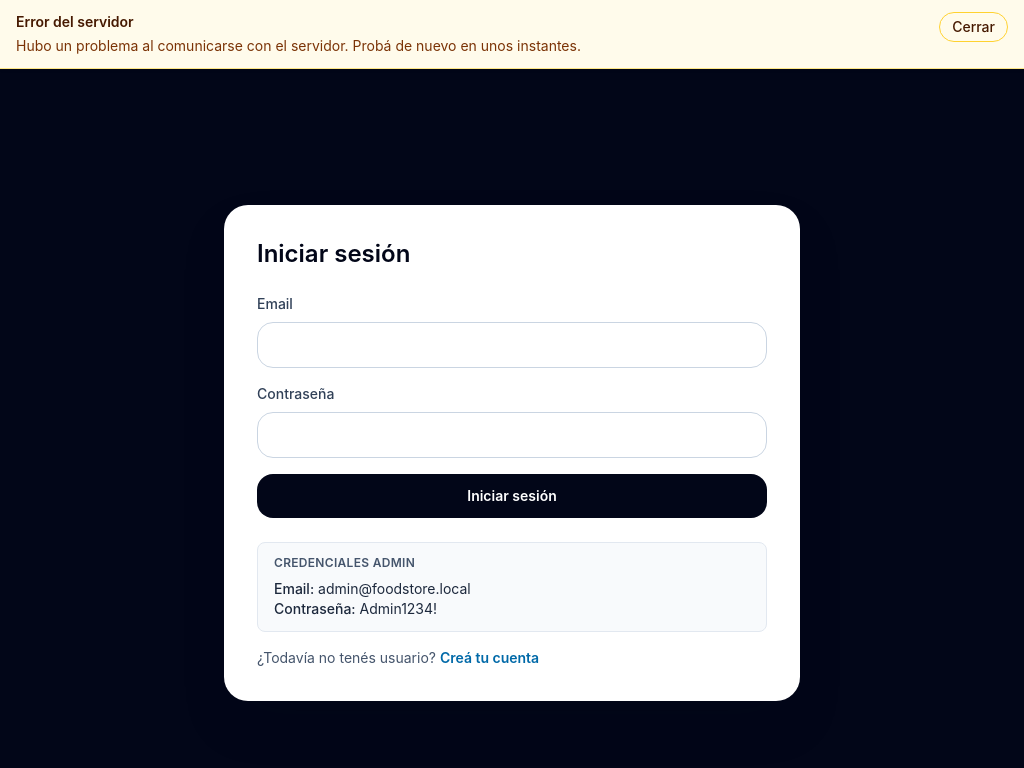
Auth flows › shows login failures without storing a partial session or leaking sensitive metadata
In the field labelled "Email": [512, 345] box [257, 322, 767, 368], type "grace@example.com"
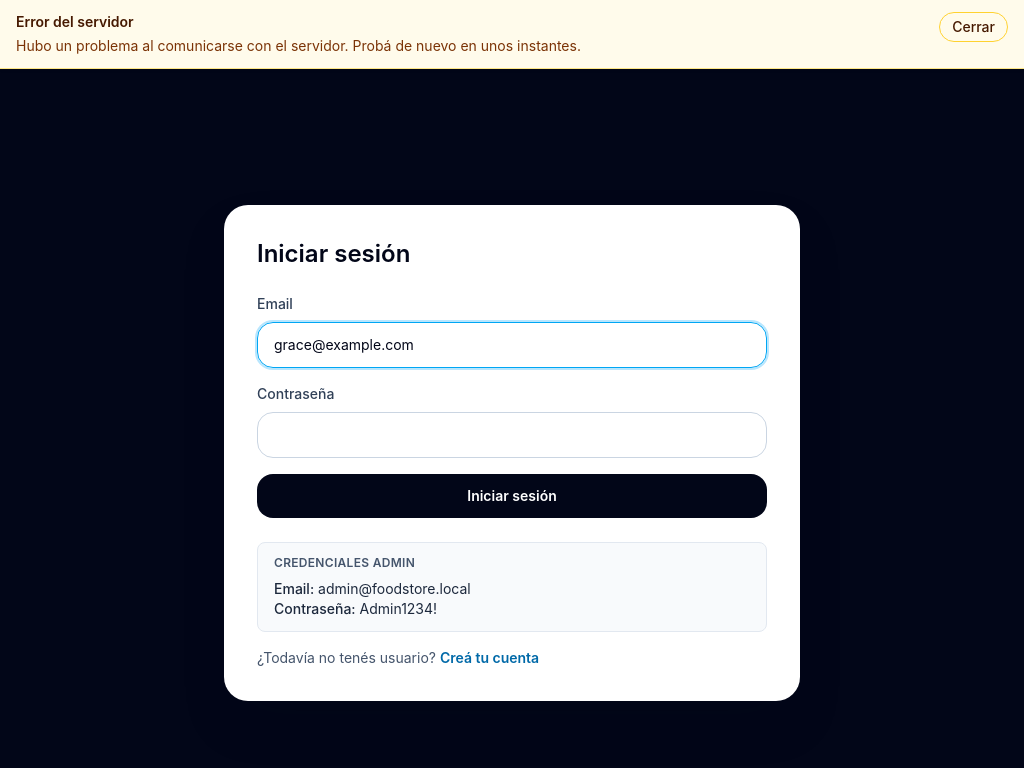
In the password field labelled "Contraseña": [512, 435] box [257, 412, 767, 458], type "WrongPass123!"
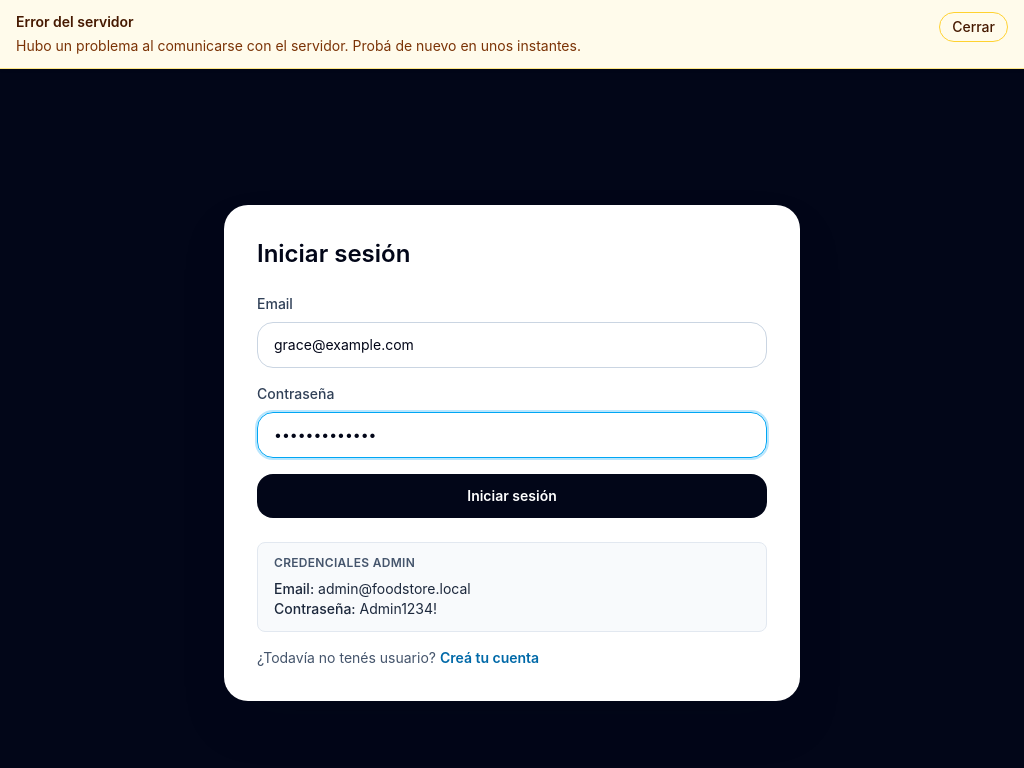
Click the button "Iniciar sesión": [512, 496] box [257, 474, 767, 518]
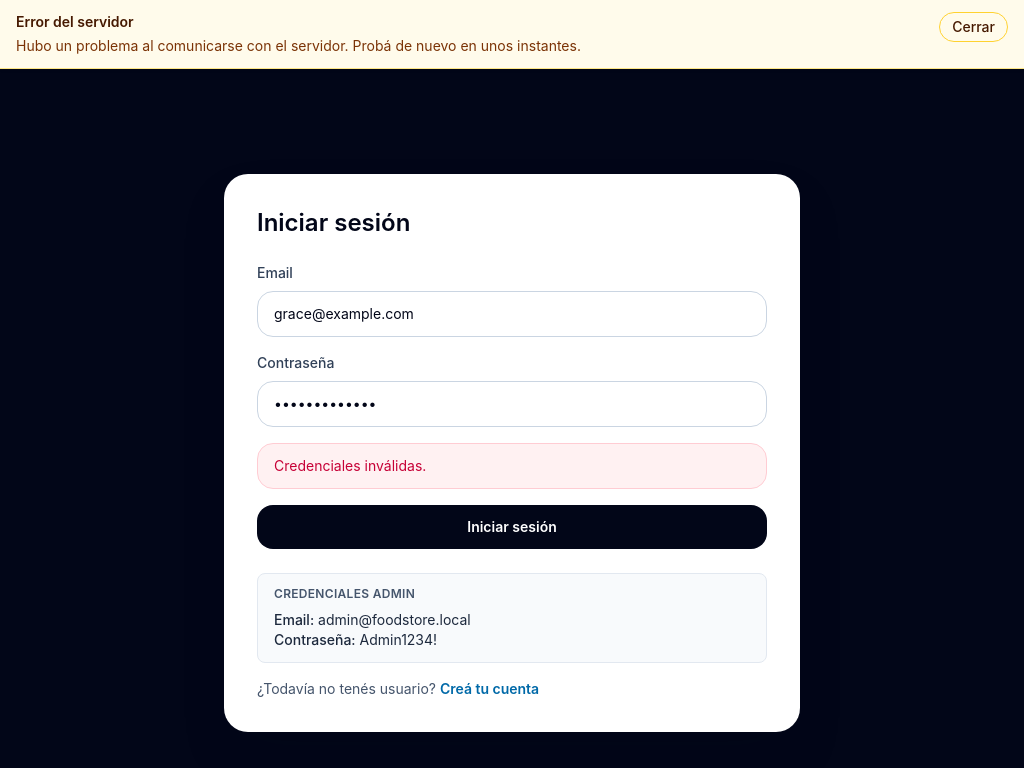
Expected: the text "Credenciales inválidas." is shown, [257, 443, 767, 489]
